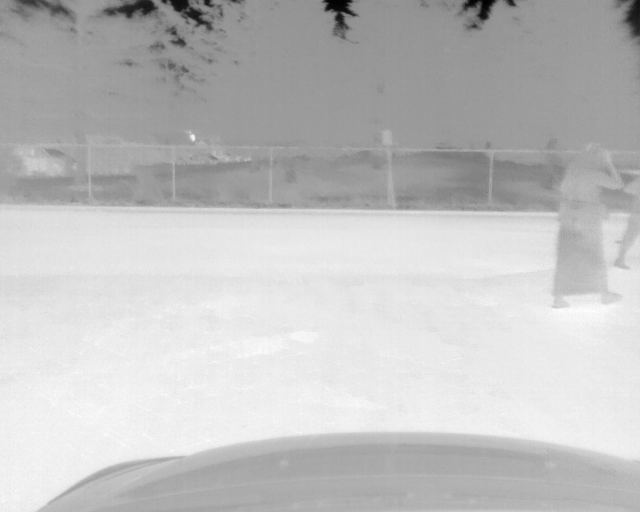people: (549, 143, 626, 308), (613, 164, 640, 272)
